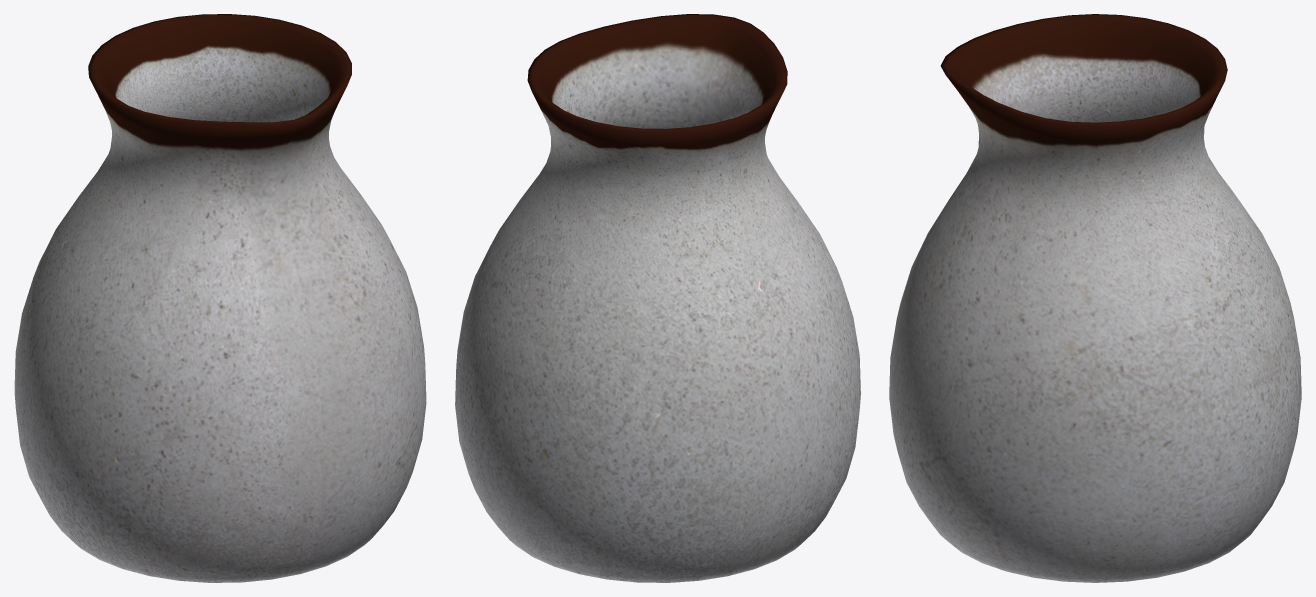
Rendered from Dashiire01B.fbx.
3 renders of one model, left to right at view 1: azimuth 30°, elevation 25°; view 2: azimuth 150°, elevation 25°; view 3: azimuth 270°, elevation 25°, orthographic.
Visible parts, largest first — view 1: Dashiire01B; view 2: Dashiire01B; view 3: Dashiire01B.
Part boxes in pixels (<box>): Dashiire01B: <box>14,14,426,582</box>; Dashiire01B: <box>455,14,860,582</box>; Dashiire01B: <box>889,14,1301,582</box>.
Bounding box in the file's own units: 6.13 × 7.42 × 6.13.
